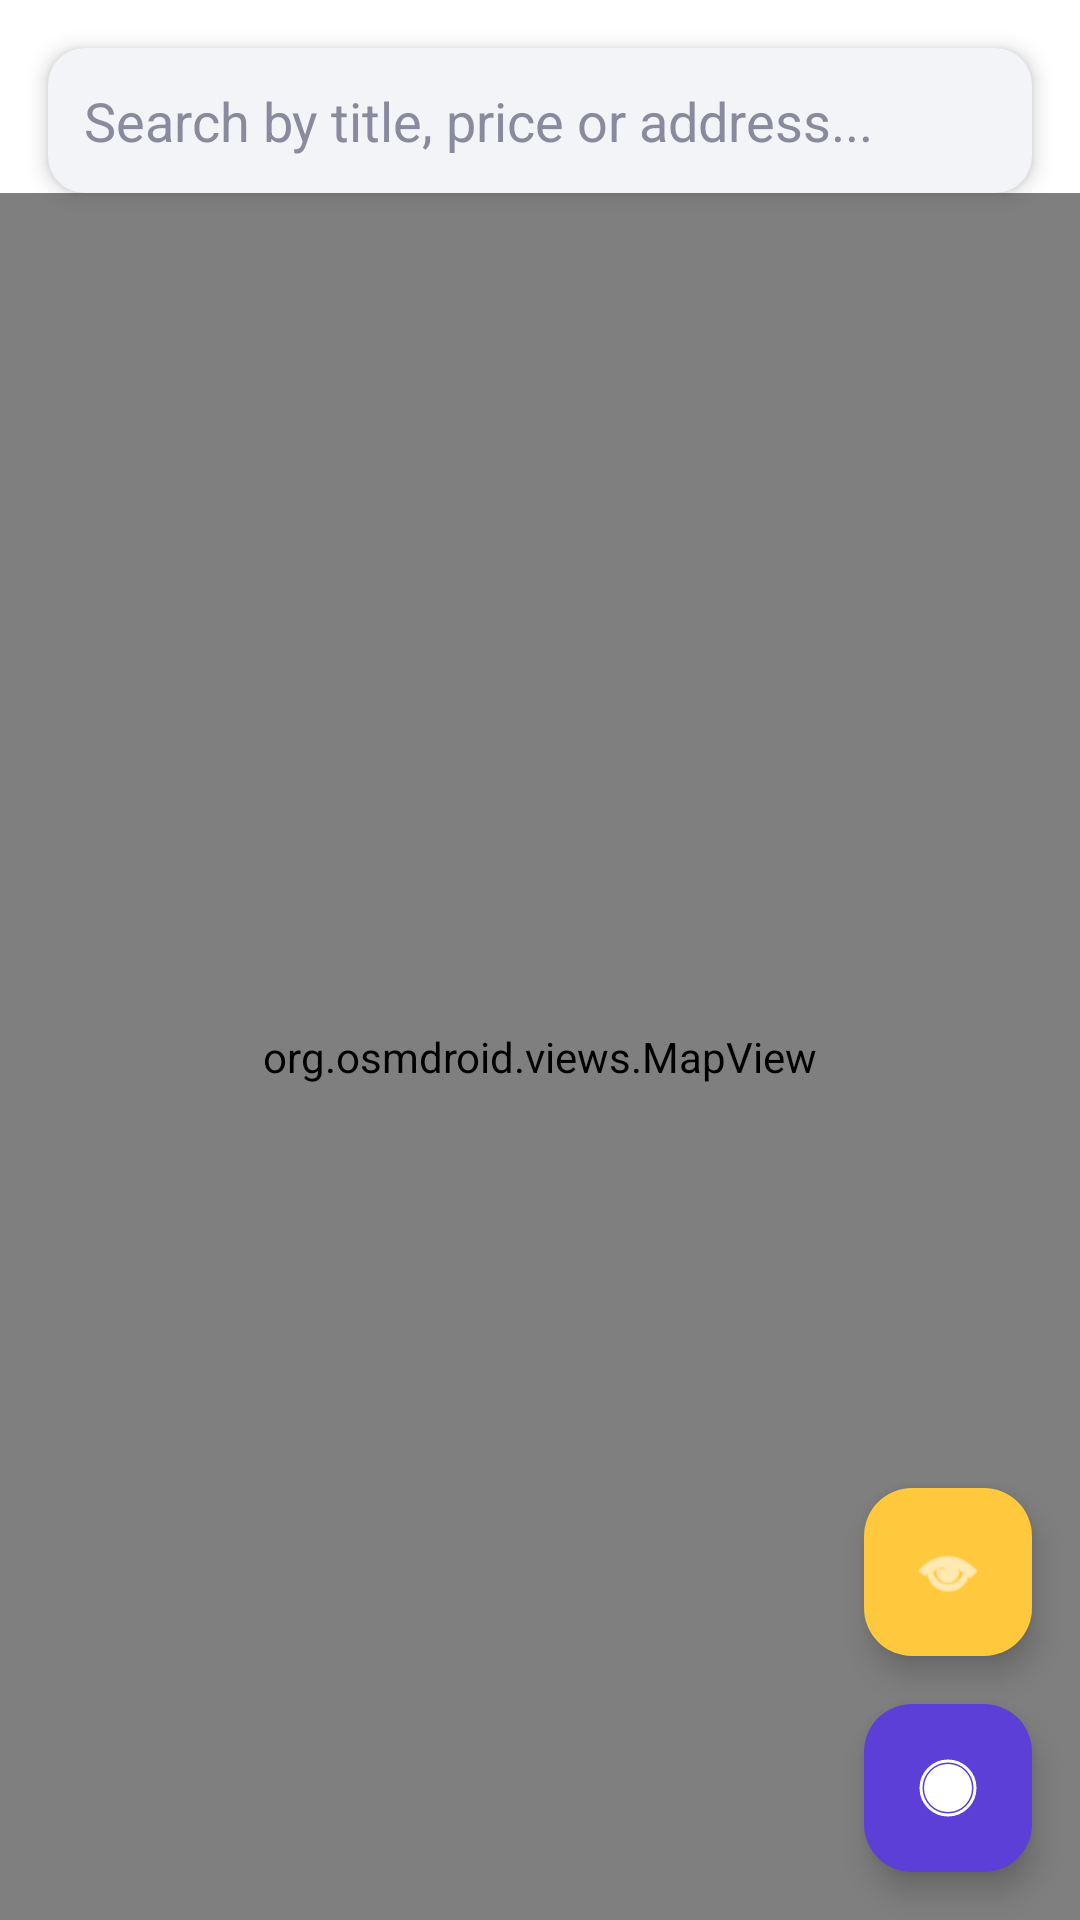

Icons on this 1080*1920 Android screen, each with the point to tap as [x,y]:
Ma position: [948,1788]
Toggle Hot Spots: [948,1572]
